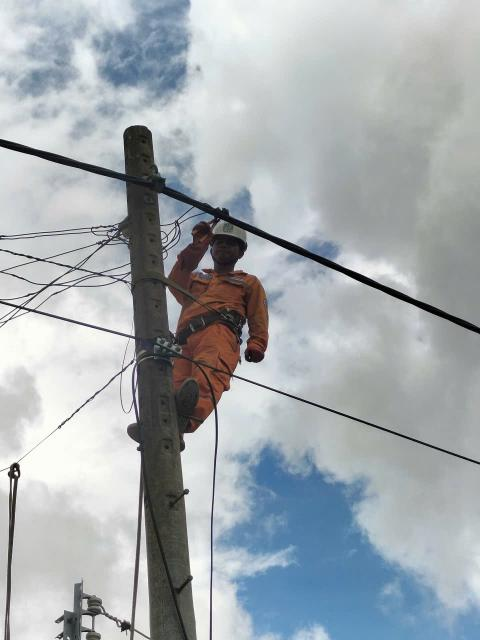gloves: (178, 216, 217, 271)
harness: (160, 305, 250, 346)
helmet: (206, 212, 255, 251)
shoes: (167, 375, 204, 440)
